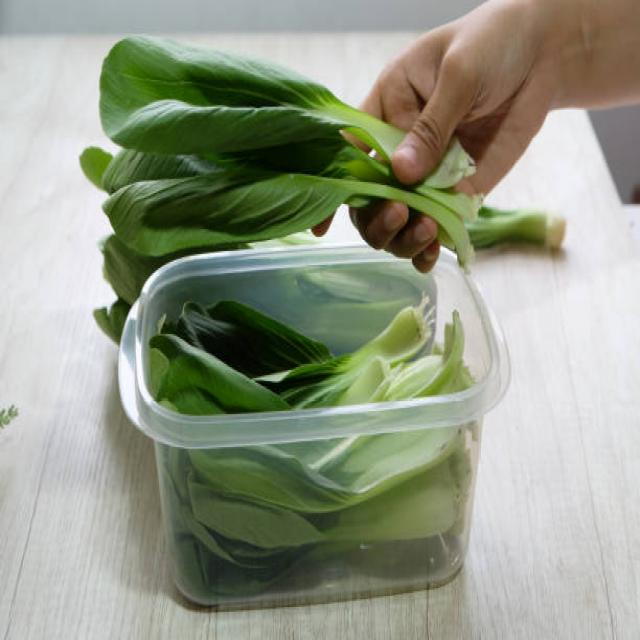Bok Choy: (110, 52, 372, 220), (180, 326, 450, 395)
